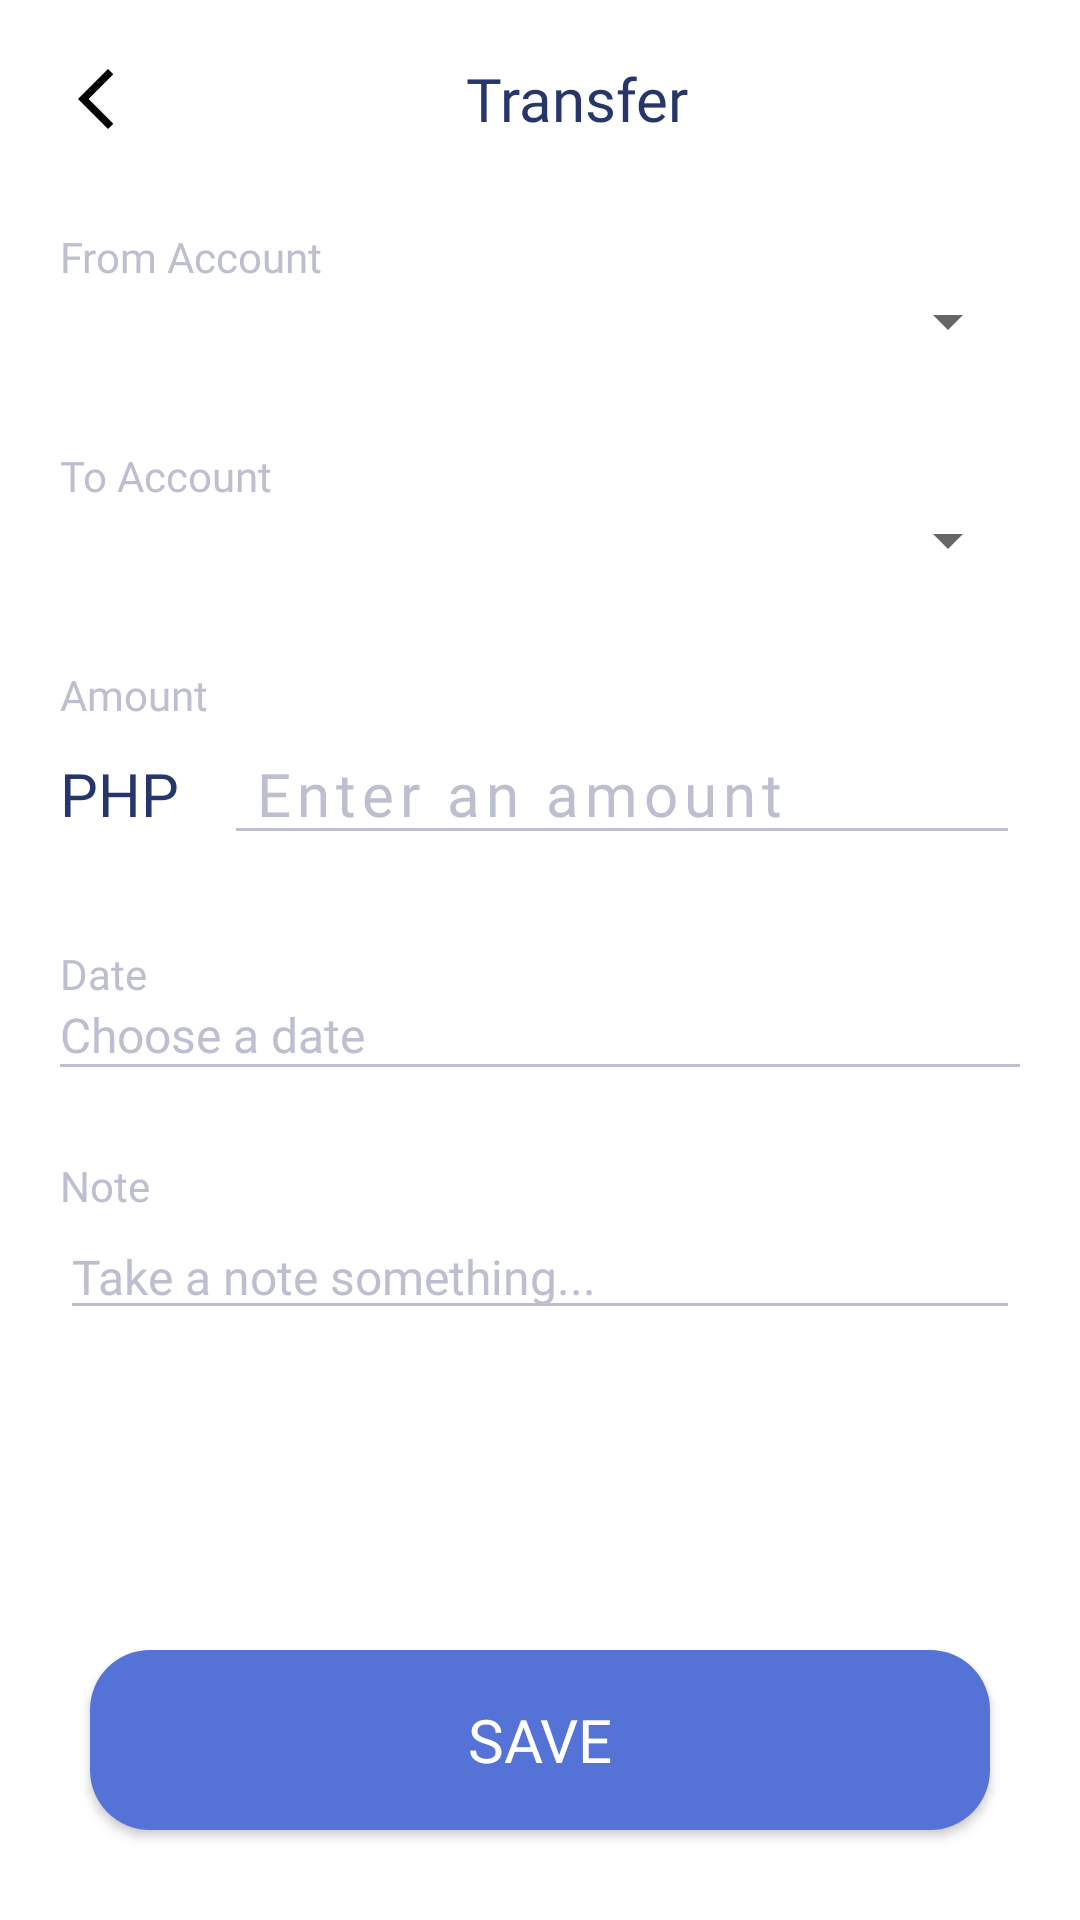

Icons on this 1080 × 1920 Android screen, each with its box as box(x1, y1, x2, y2):
arrow back: box(78, 69, 113, 129)
